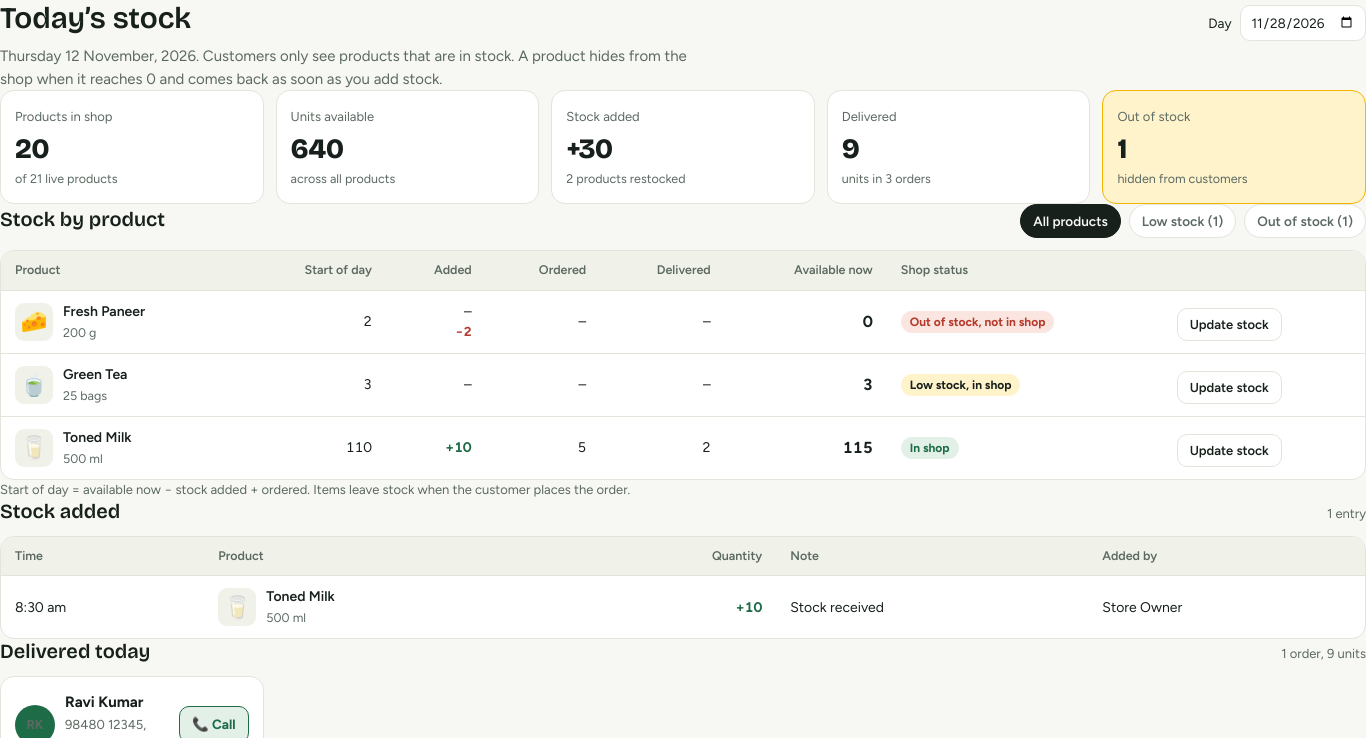
Scenario: Today's stock › filters to low stock and opens Update stock with the current number
Click the button "Low stock (1)". click: (1183, 221)
box: [1129,204,1236,238]
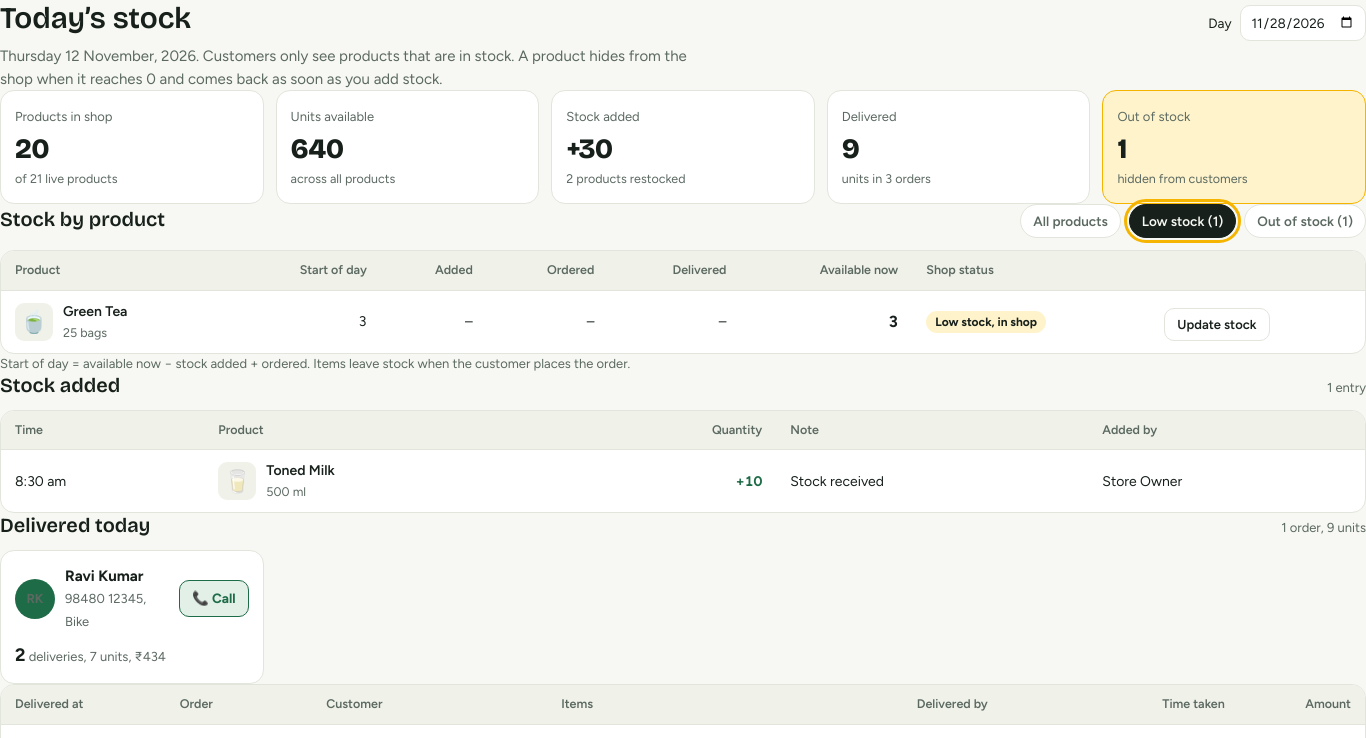
Expected: the text "Low stock, in shop" is shown, [926,311,1046,333]
Result: the text "Fresh Paneer" is gone
Click the button with aria-label "Update stock for Green Tea". click: (1217, 325)
box: [1164,308,1270,341]
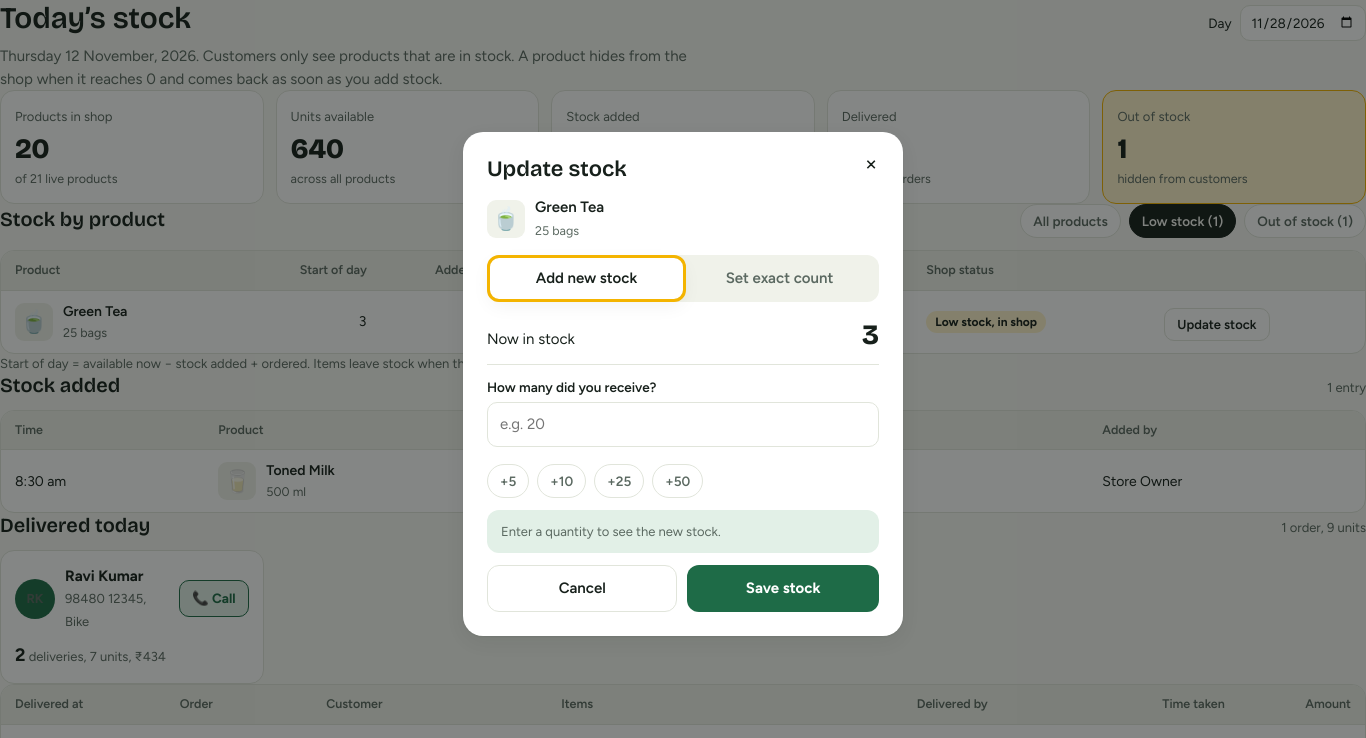
Result: the text "3" is shown at [862,314,879,356]
